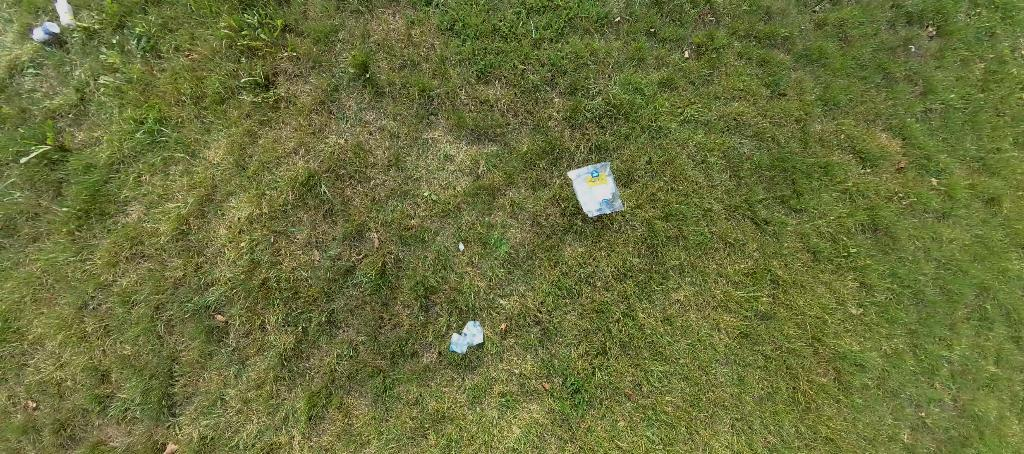garbage: (569, 160, 628, 220), (450, 320, 485, 359)
